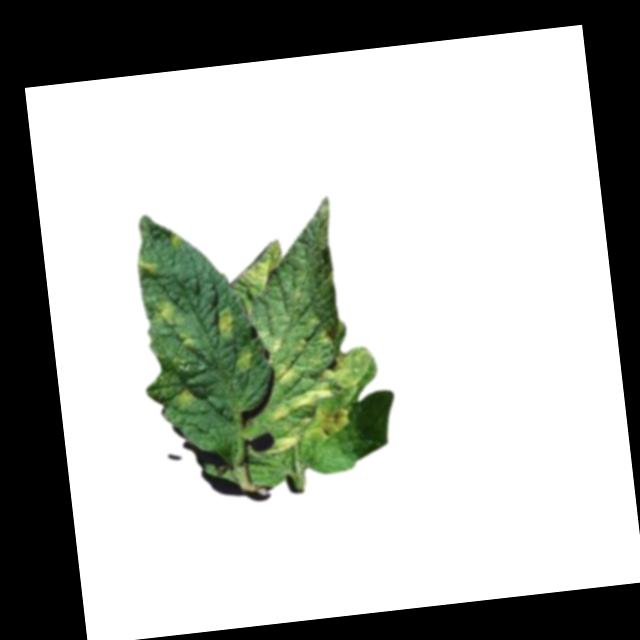Leaf_Mold: (308, 334, 367, 403), (235, 241, 289, 287), (305, 400, 352, 443), (210, 304, 238, 342), (230, 346, 255, 378), (154, 300, 177, 328), (270, 431, 298, 454), (173, 381, 197, 406), (272, 363, 294, 385)
